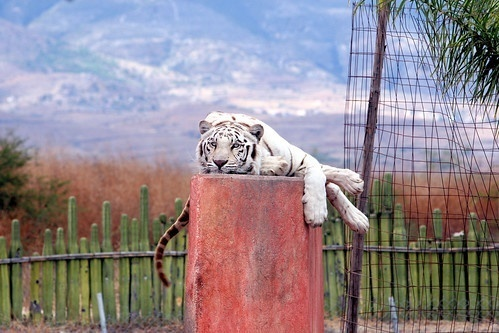tigre: (196, 108, 372, 235)
